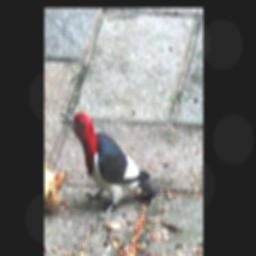Woodpecker: (56, 106, 163, 227)
